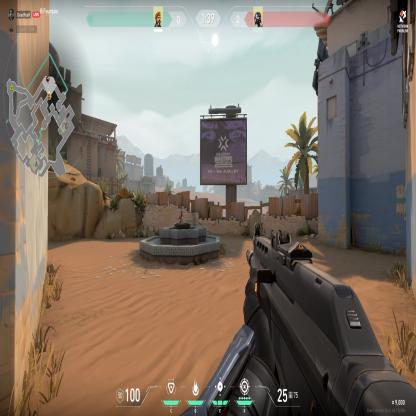enemy: (178, 210, 183, 222)
